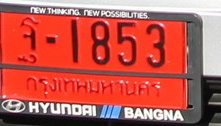txt12: (16, 15, 39, 64)
